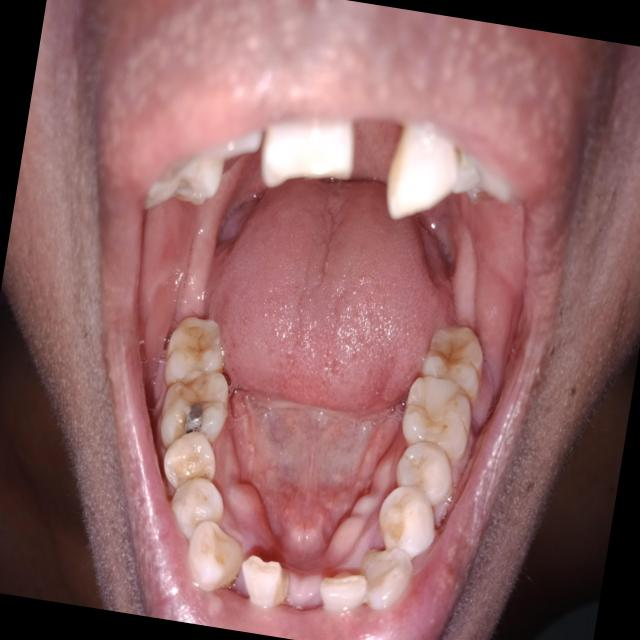Tooth: (402, 376, 472, 461), (161, 369, 229, 450), (421, 326, 484, 402), (165, 316, 224, 388), (379, 486, 434, 561), (188, 521, 243, 591), (396, 442, 453, 505), (171, 478, 224, 543), (361, 548, 413, 609), (163, 431, 216, 488), (242, 555, 289, 607), (319, 570, 367, 611)
